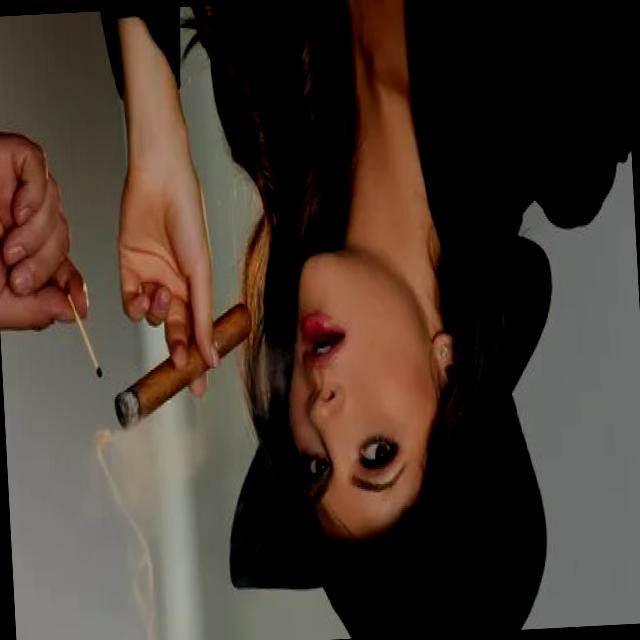cigarette: (106, 299, 262, 433)
